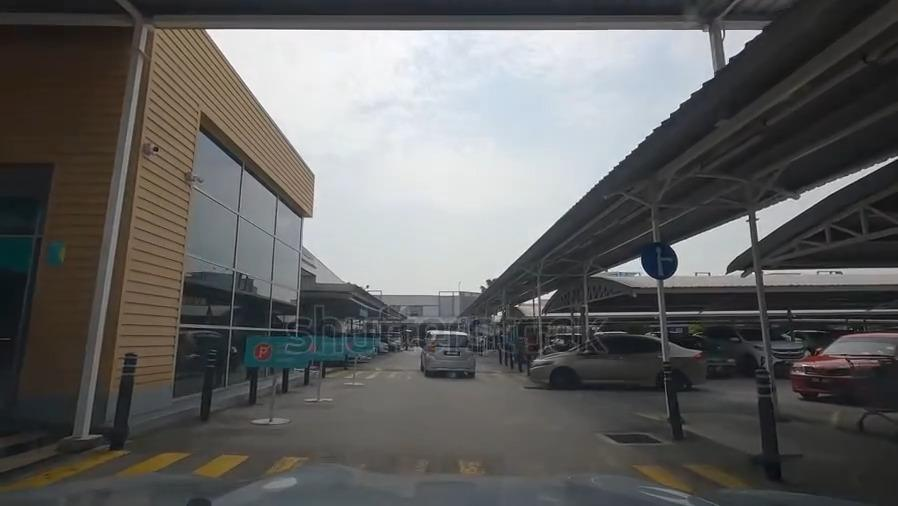car: (531, 336, 706, 388), (791, 336, 898, 398), (702, 324, 808, 372), (653, 331, 740, 380), (420, 332, 472, 375)
manhole: (594, 428, 668, 449)
pedestrian: (1, 456, 765, 495), (323, 371, 538, 383)
speedbump: (347, 363, 508, 374)
